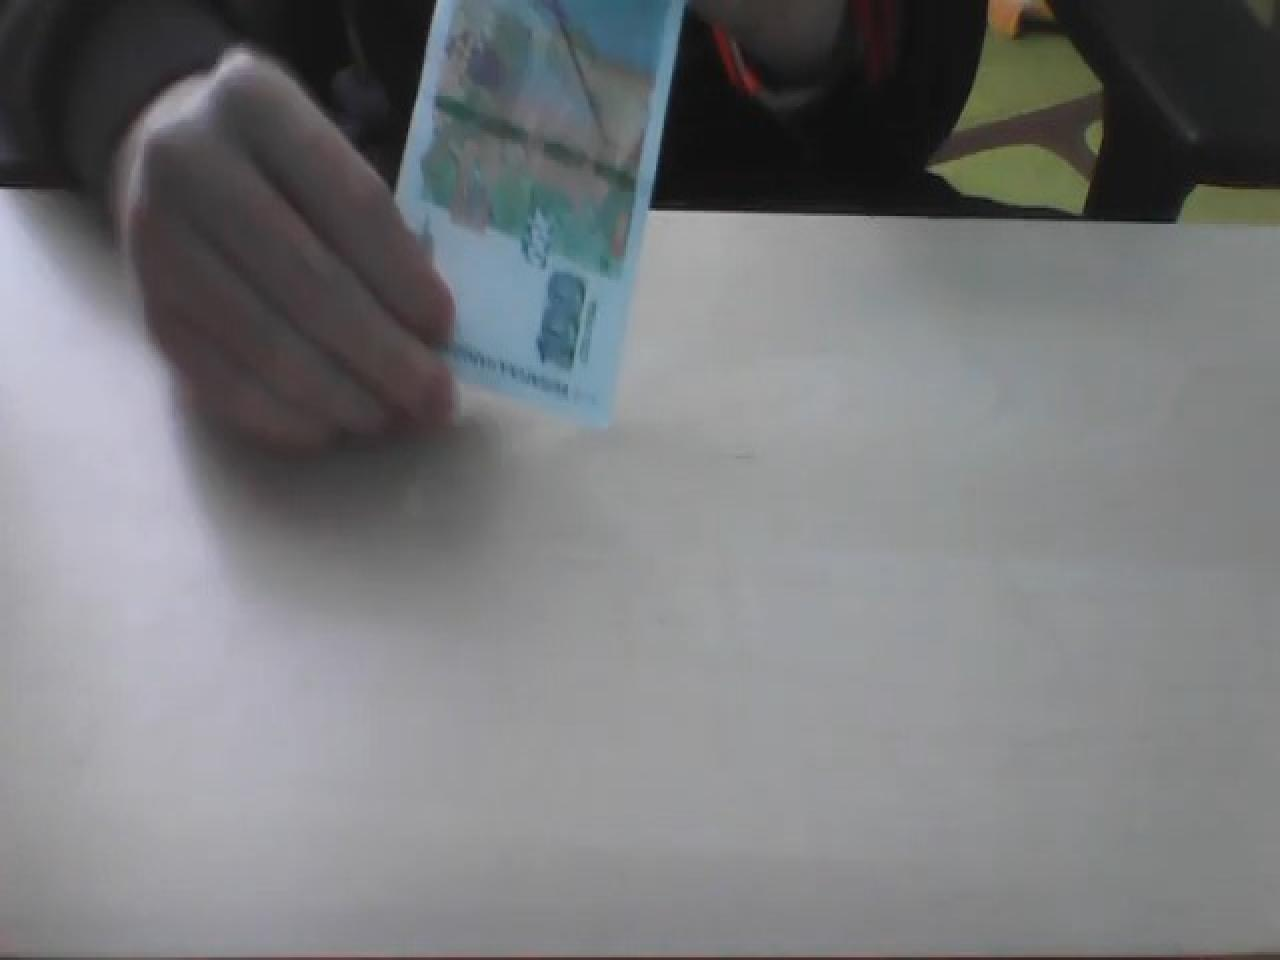100leva: (388, 0, 686, 427)
